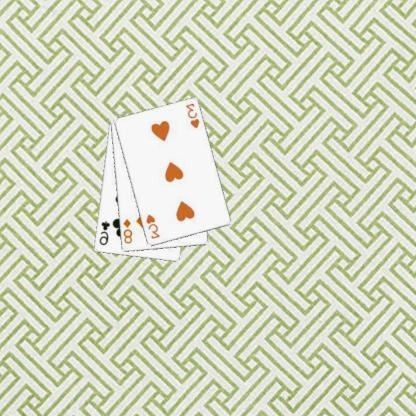3H: (185, 101, 202, 130), (145, 212, 162, 240)
8D: (123, 216, 135, 245)
9C: (98, 218, 113, 246)
